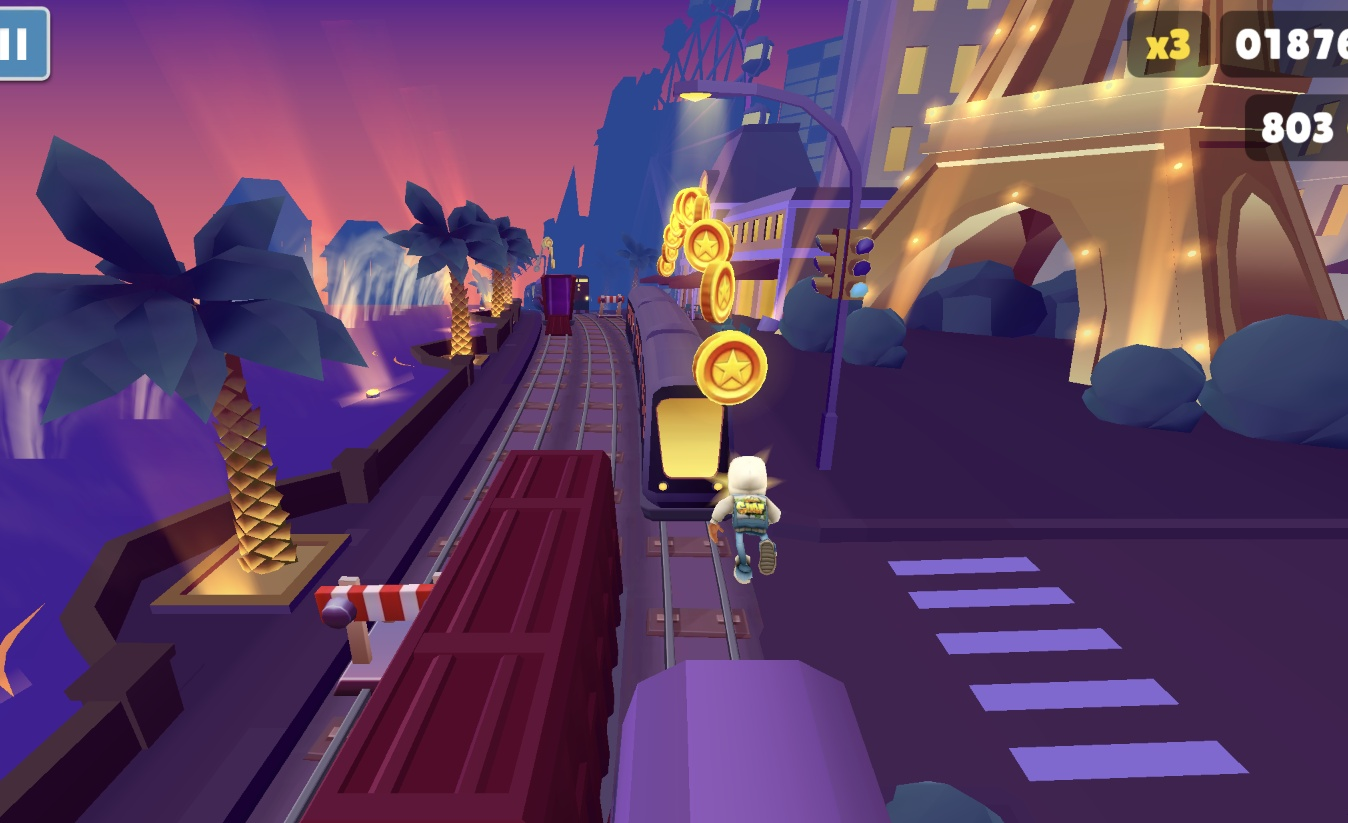ground_barrier: (316, 575, 438, 698), (598, 294, 627, 319)
train: (309, 449, 626, 823), (616, 659, 891, 823), (629, 282, 730, 523), (540, 275, 574, 335), (568, 275, 590, 313)
